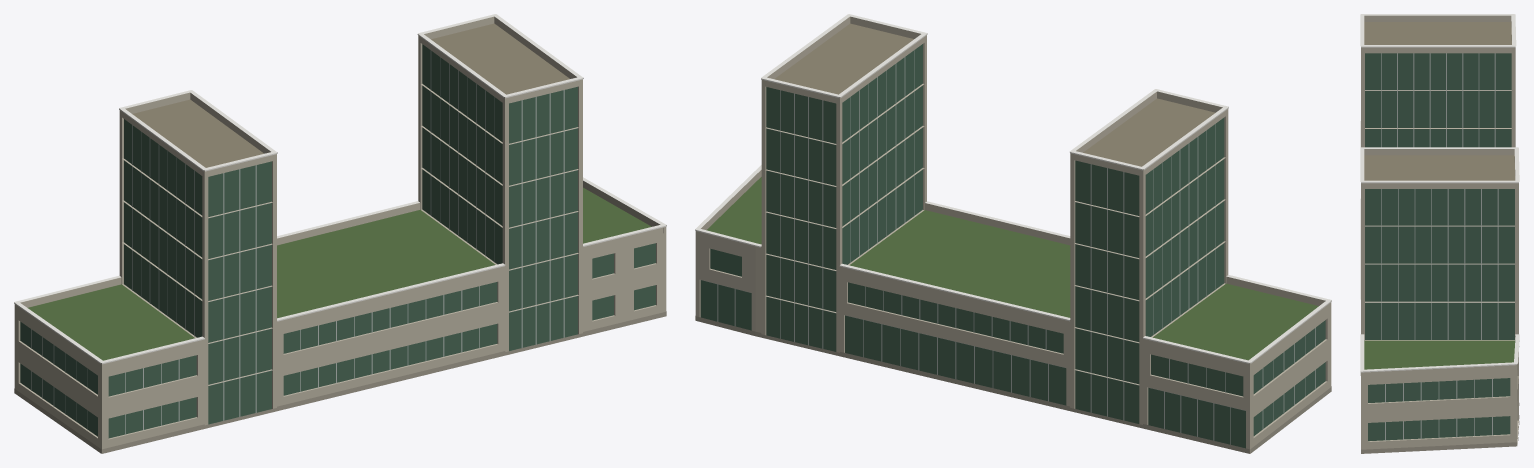
3 renders of one model, left to right at view 1: azimuth 30°, elevation 25°; view 2: azimuth 150°, elevation 25°; view 3: azimuth 270°, elevation 25°, orthographic. The views are drawn at different scales.
Visible parts, largest first — view 1: humanitiesD__glass, humanitiesD__wall, humanitiesD__planted, humanitiesD__parapet, humanitiesD__roof, humanitiesD__frame, humanitiesD__trim, humanitiesD__base; view 2: humanitiesD__glass, humanitiesD__wall, humanitiesD__planted, humanitiesD__parapet, humanitiesD__roof, humanitiesD__frame, humanitiesD__trim, humanitiesD__base; view 3: humanitiesD__glass, humanitiesD__wall, humanitiesD__roof, humanitiesD__parapet, humanitiesD__planted, humanitiesD__frame, humanitiesD__trim, humanitiesD__base.
Part boxes in pixels (bbox=[...]): humanitiesD__glass: bbox=[20, 44, 655, 438]; humanitiesD__wall: bbox=[14, 41, 666, 453]; humanitiesD__planted: bbox=[28, 187, 651, 360]; humanitiesD__parapet: bbox=[14, 16, 666, 369]; humanitiesD__roof: bbox=[132, 23, 569, 167]; humanitiesD__frame: bbox=[31, 50, 577, 434]; humanitiesD__trim: bbox=[14, 14, 666, 364]; humanitiesD__base: bbox=[14, 311, 666, 453]; humanitiesD__glass: bbox=[700, 44, 1325, 448]; humanitiesD__wall: bbox=[695, 40, 1331, 453]; humanitiesD__planted: bbox=[706, 177, 1318, 360]; humanitiesD__parapet: bbox=[695, 16, 1331, 369]; humanitiesD__roof: bbox=[774, 23, 1215, 166]; humanitiesD__frame: bbox=[701, 50, 1315, 444]; humanitiesD__trim: bbox=[695, 14, 1331, 363]; humanitiesD__base: bbox=[695, 316, 1331, 453]; humanitiesD__glass: bbox=[1365, 53, 1514, 441]; humanitiesD__wall: bbox=[1361, 52, 1518, 449]; humanitiesD__roof: bbox=[1364, 22, 1515, 180]; humanitiesD__parapet: bbox=[1360, 15, 1518, 377]; humanitiesD__planted: bbox=[1364, 340, 1515, 369]; humanitiesD__frame: bbox=[1365, 53, 1514, 440]; humanitiesD__trim: bbox=[1360, 14, 1519, 372]; humanitiesD__base: bbox=[1361, 403, 1519, 453].
Bounding box in the file's own units: 51.12 × 22.2 × 13.66.
